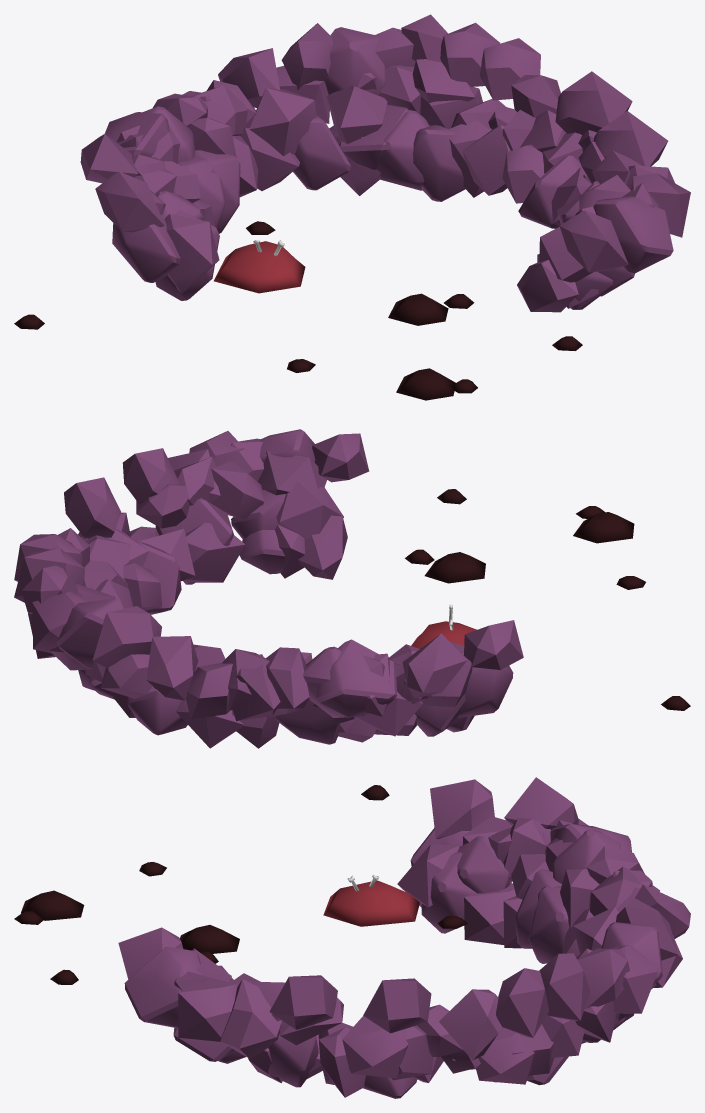
The model's file is mapDragonKeep.fbx.
The picture shows the model from 3 angles, top to bottom: view 1: azimuth 30°, elevation 25°; view 2: azimuth 150°, elevation 25°; view 3: azimuth 270°, elevation 25°; orthographic projection.
Visible parts, largest first — view 1: kayalık.001, Cylinder.022, Cylinder.056, Cylinder.060; view 2: kayalık.001, Cylinder.056, Cylinder.060, Cylinder.022; view 3: kayalık.001, Cylinder.022, Cylinder.060, Cylinder.056.
Part boxes in pixels (bbox=[...]): kayalık.001: bbox=[80, 14, 690, 312]; Cylinder.022: bbox=[214, 241, 305, 293]; Cylinder.056: bbox=[388, 293, 448, 325]; Cylinder.060: bbox=[396, 368, 455, 400]; kayalık.001: bbox=[14, 429, 523, 748]; Cylinder.056: bbox=[424, 552, 485, 583]; Cylinder.060: bbox=[573, 512, 634, 543]; Cylinder.022: bbox=[411, 621, 476, 648]; kayalık.001: bbox=[118, 777, 690, 1098]; Cylinder.022: bbox=[323, 880, 419, 926]; Cylinder.060: bbox=[21, 890, 84, 920]; Cylinder.056: bbox=[180, 925, 239, 953].
Size of the model in its own units: 1249 by 279 by 1188.
